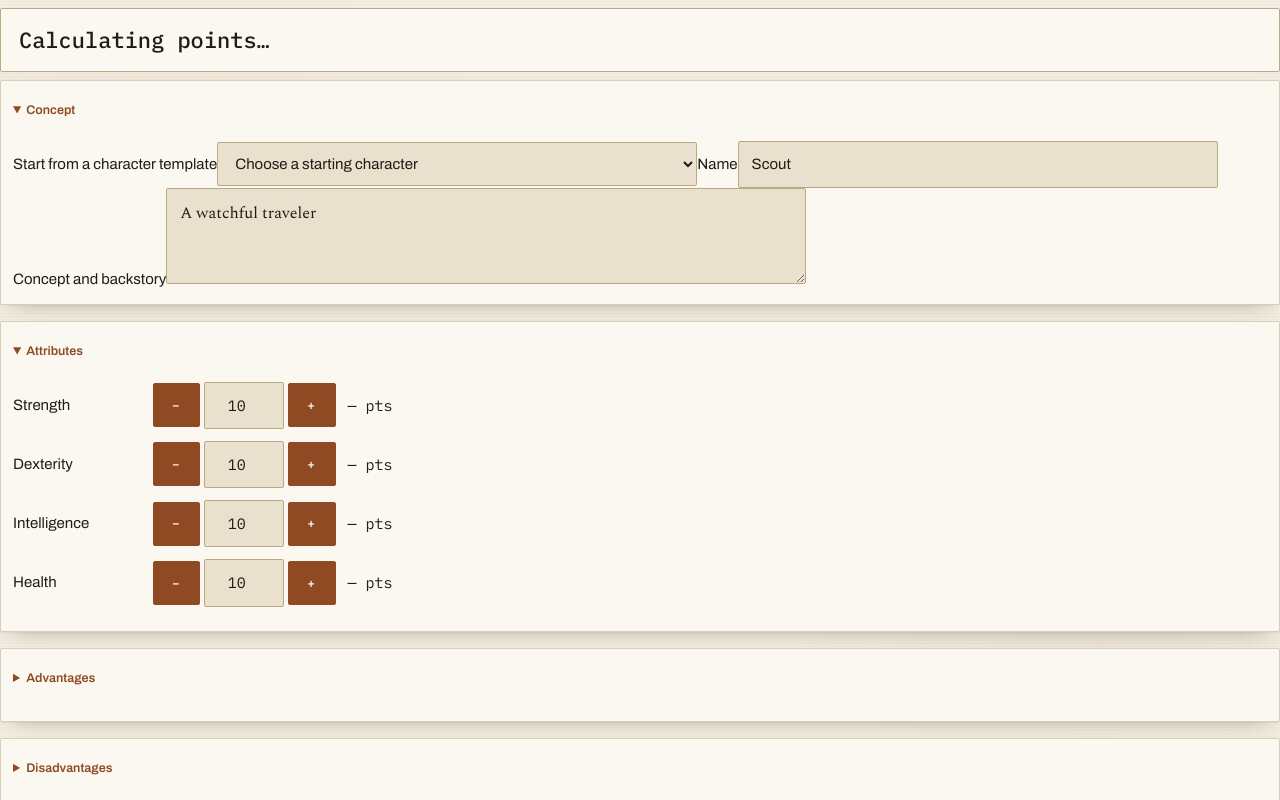
Test: ignores a late preview even when the transport does not honor cancellation
Type " revised" into the field labelled "Name".
click(978, 165); type(" revised")  # box 738,141 -> 1218,188
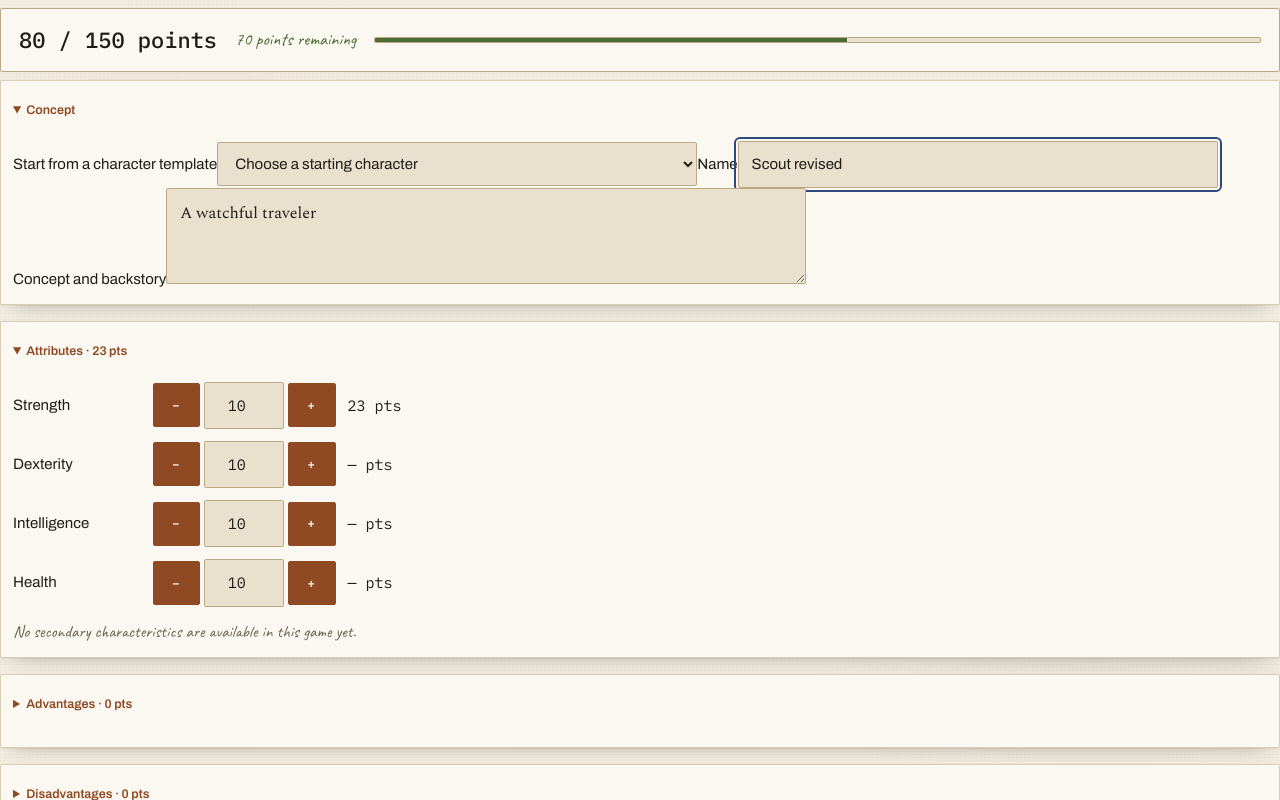
Expected: the text "80 / 150 points" is shown, 19,23 -> 217,57
